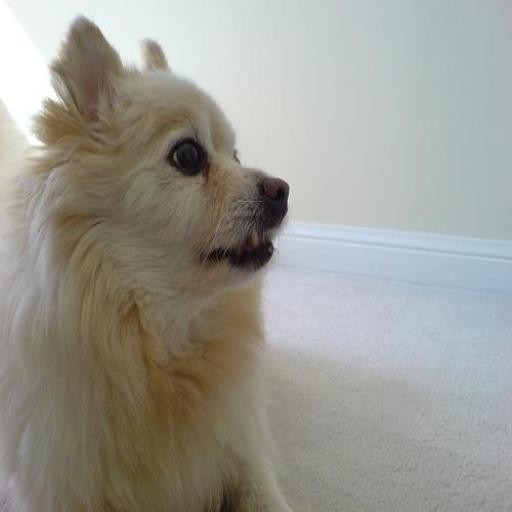dog_face: (62, 23, 292, 280)
